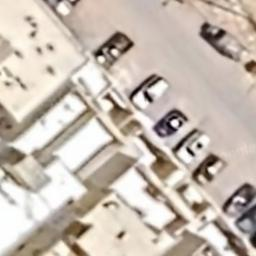SUV: (132, 74, 170, 113), (177, 127, 209, 166), (192, 153, 226, 186)
sedan: (222, 180, 256, 220)
unknown: (92, 30, 138, 68), (154, 108, 189, 140)
